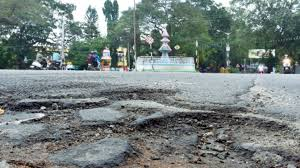pothole: (139, 84, 295, 166), (4, 84, 136, 166)
